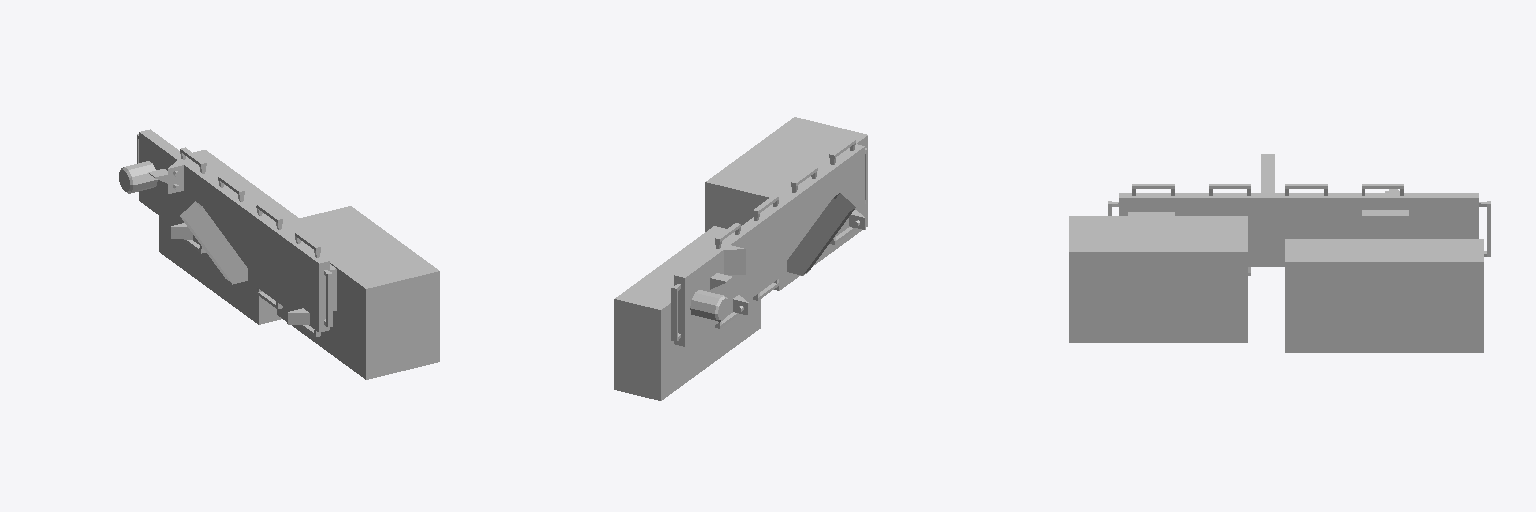
The model's file is z1_ext_01_002.obj.
3 renders of one model, left to right at view 1: azimuth 30°, elevation 25°; view 2: azimuth 150°, elevation 25°; view 3: azimuth 270°, elevation 25°, orthographic.
Bounding box in the file's own units: 112 × 97.41 × 259.